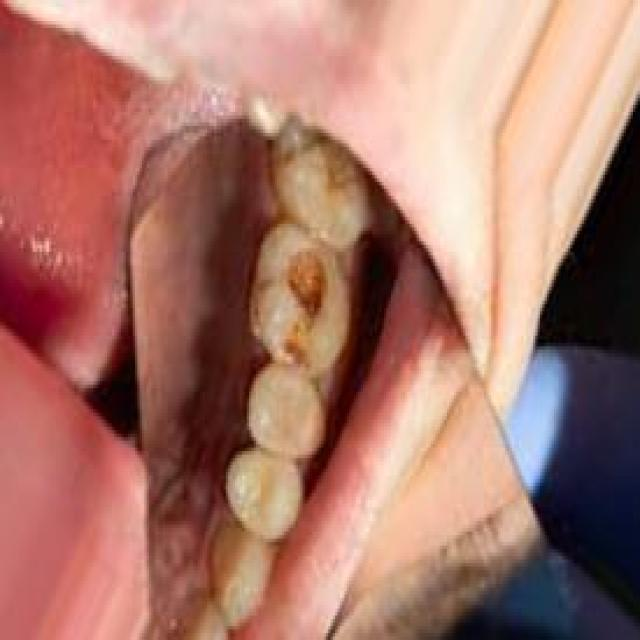caries: (262, 234, 343, 389)
